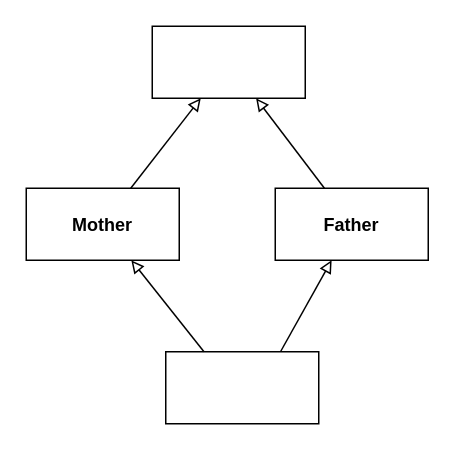
Image size: 455x450. Some labels were removed from this diagram. Each missing label, with the box of its shape:
Person: (151, 25, 305, 98)
Son: (164, 350, 319, 424)
